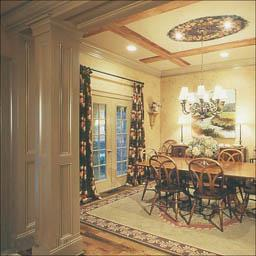Puerta: (91, 97, 128, 188)
